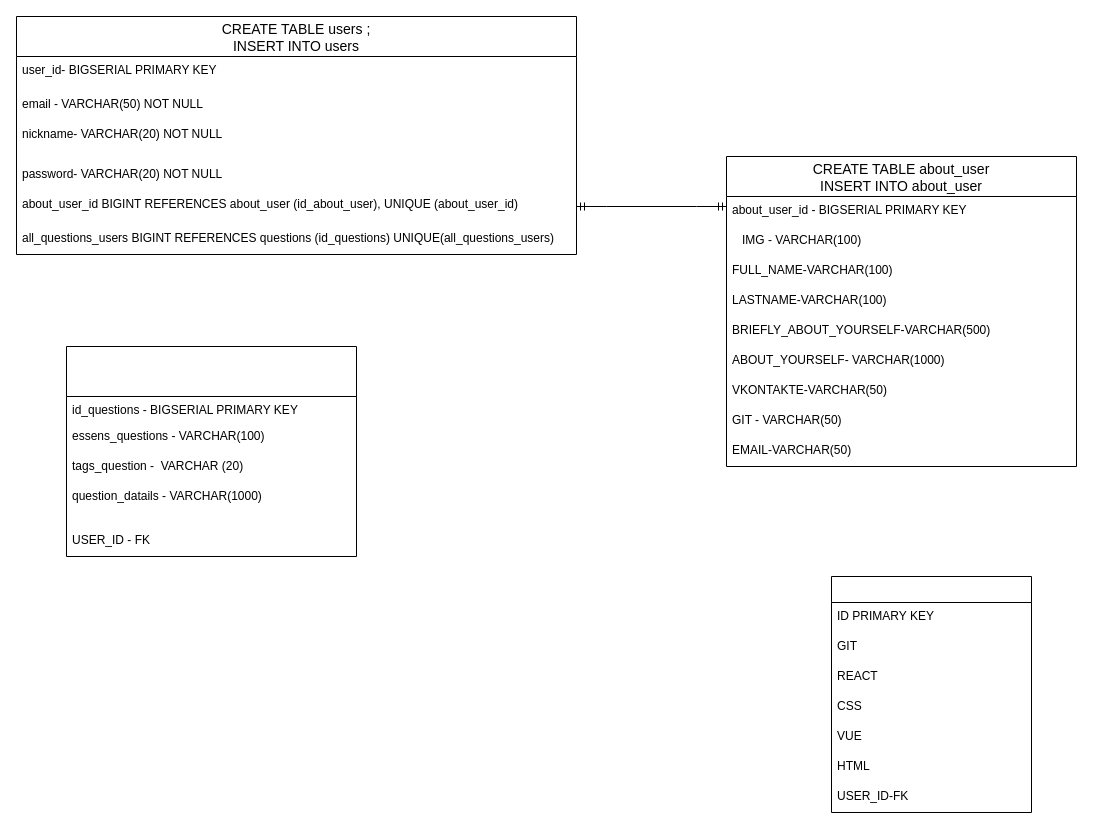
Some shapes in this 1093 by 829 pixel diagram are drawn without their labels. The box of each missing label's shape, as (x1, y1, x2, y2) in pixels:
CREATE TABLE Questions INSERT INTO: (66, 346, 356, 556)
CREATE TABLE TAGS: (830, 576, 1032, 812)
